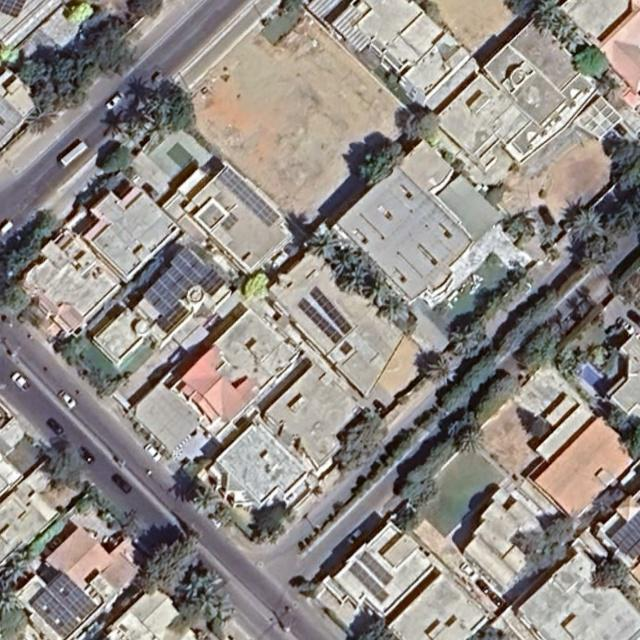solar panel: (143, 247, 226, 334), (217, 166, 281, 227), (31, 589, 80, 638), (48, 573, 97, 621), (310, 285, 352, 336), (299, 299, 343, 344), (349, 561, 390, 604), (612, 511, 639, 560), (360, 551, 394, 587), (340, 341, 354, 356)
